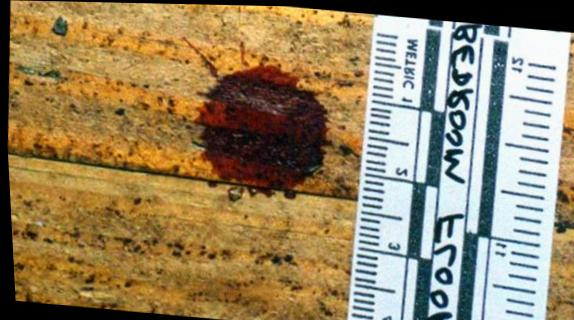Fire: (187, 40, 330, 200)
